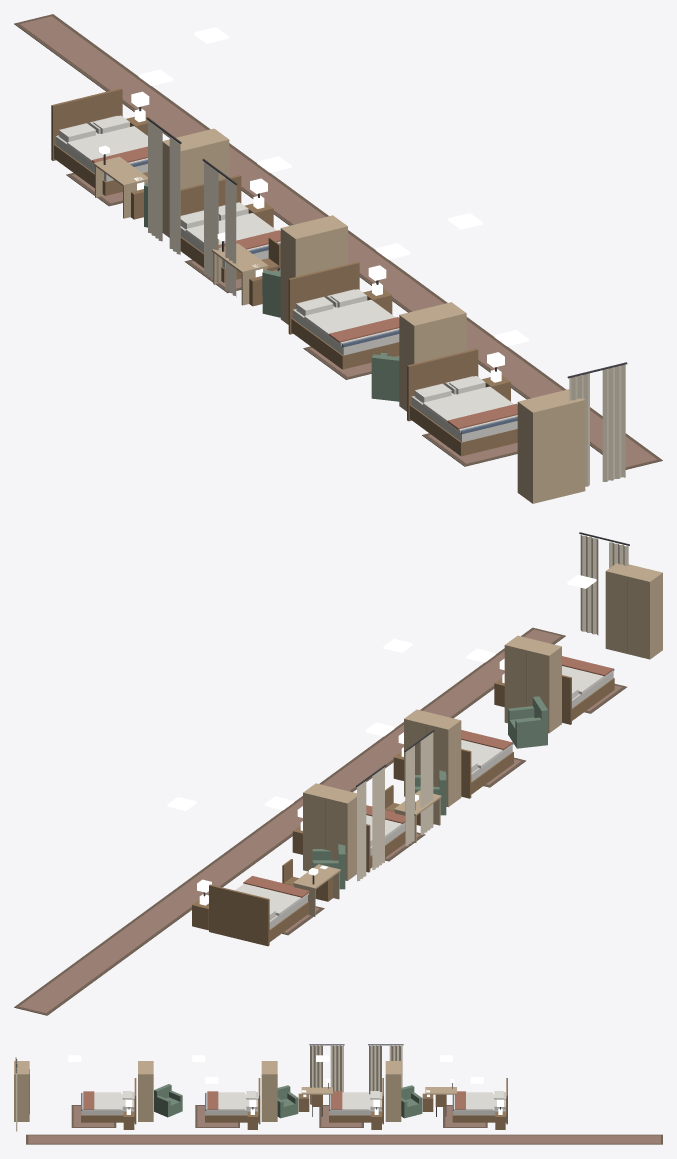
The model's file is fine-s1.glb.
3 renders of one model, top to bottom at view 1: azimuth 30°, elevation 25°; view 2: azimuth 150°, elevation 25°; view 3: azimuth 270°, elevation 25°, orthographic. The views are drawn at different scales.
Visible parts, largest first — view 1: soft-s1, dresser.003, bed-frame.003, bed-frame.002, dresser.001, dresser.002, bed-frame.000, dresser.000, bed-frame.001, writing-desk.000, writing-desk.001, lounge-chair.002 (+1 smaller); view 2: soft-s1, dresser.003, dresser.002, dresser.000, bed-frame.000, dresser.001, lounge-chair.002, bed-frame.002, bed-frame.003, writing-desk.000, lounge-chair.000, bed-frame.001; view 3: soft-s1, dresser.000, dresser.001, dresser.002, dresser.003, bed-frame.002, lounge-chair.002, bed-frame.003, bed-frame.000, bed-frame.001, lounge-chair.000, lounge-chair.001 (+9 smaller).
Boxes of the visible parts, <box> form: soft-s1: <box>14,14,662,486</box>; dresser.003: <box>517,389,585,503</box>; bed-frame.003: <box>407,348,517,456</box>; bed-frame.002: <box>288,262,399,369</box>; dresser.001: <box>280,215,347,324</box>; dresser.002: <box>399,302,466,411</box>; bed-frame.000: <box>51,88,147,195</box>; dresser.000: <box>162,128,229,237</box>; bed-frame.001: <box>180,175,280,282</box>; writing-desk.000: <box>93,145,147,218</box>; writing-desk.001: <box>212,232,268,305</box>; lounge-chair.002: <box>371,352,399,401</box>; soft-s1: <box>14,532,629,1015</box>; dresser.003: <box>605,563,662,659</box>; dresser.002: <box>504,635,561,733</box>; dresser.000: <box>303,783,356,880</box>; bed-frame.000: <box>209,884,308,946</box>; dresser.001: <box>404,709,461,807</box>; lounge-chair.002: <box>508,696,548,748</box>; bed-frame.002: <box>461,742,513,798</box>; bed-frame.003: <box>562,669,614,724</box>; writing-desk.000: <box>293,864,340,916</box>; lounge-chair.000: <box>312,844,345,889</box>; bed-frame.001: <box>366,824,405,872</box>; soft-s1: <box>15,1044,662,1144</box>; dresser.000: <box>385,1061,401,1121</box>; dresser.001: <box>261,1061,277,1121</box>; dresser.002: <box>138,1061,153,1121</box>; dresser.003: <box>14,1061,29,1121</box>; bed-frame.002: <box>205,1078,260,1124</box>; lounge-chair.002: <box>154,1084,182,1117</box>; bed-frame.003: <box>81,1078,136,1124</box>; bed-frame.000: <box>452,1078,507,1124</box>; bed-frame.001: <box>329,1078,383,1124</box>; lounge-chair.000: <box>401,1085,422,1118</box>; lounge-chair.001: <box>277,1085,298,1118</box>.
Bounding box in the file's own units: 3.6 × 2.56 × 24.69.
